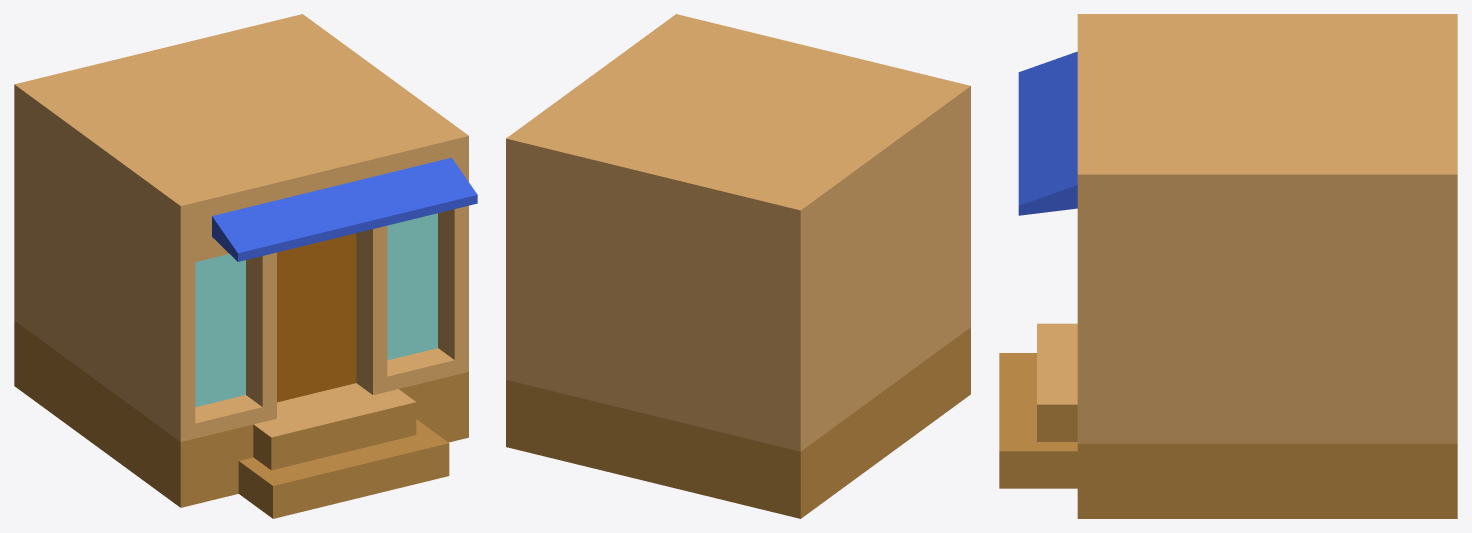
Rendered from buildingsbase4.fbx.
3 renders of one model, left to right at view 1: azimuth 30°, elevation 25°; view 2: azimuth 150°, elevation 25°; view 3: azimuth 270°, elevation 25°, orthographic. The views are drawn at different scales.
Parts seen in each view (by area): view 1: base6; view 2: base6; view 3: base6.
Part boxes in pixels (bbox=[...]): base6: bbox=[14, 14, 477, 518]; base6: bbox=[506, 14, 970, 518]; base6: bbox=[999, 14, 1457, 518].
Bounding box in the file's own units: 100 × 100 × 121.
